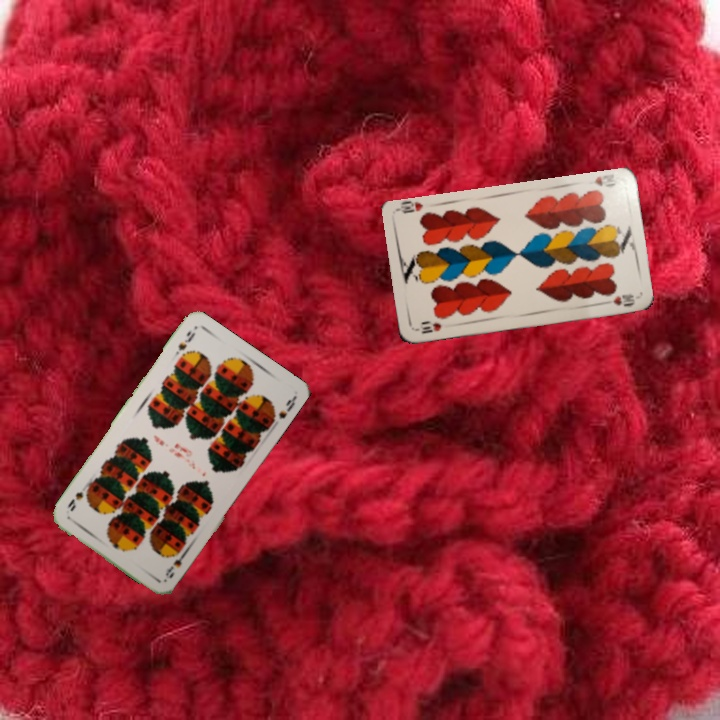H10: (590, 170, 620, 189), (417, 319, 444, 336)
S9: (161, 547, 190, 581), (174, 327, 198, 354)
